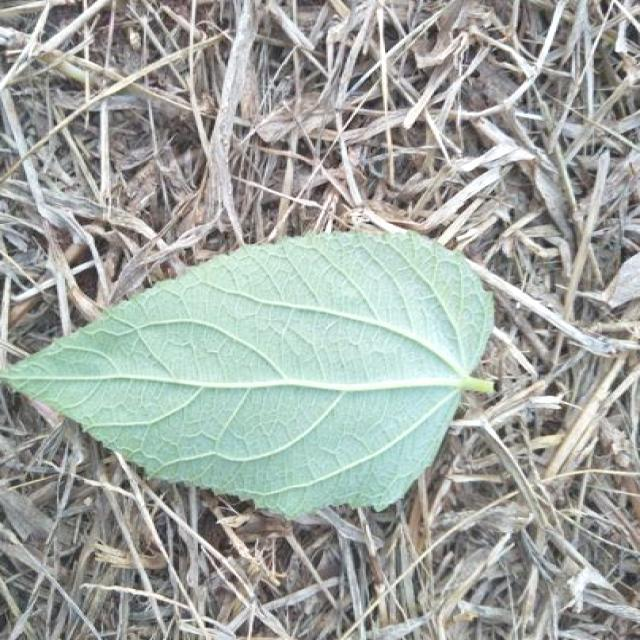leaf: (0, 227, 496, 520)
